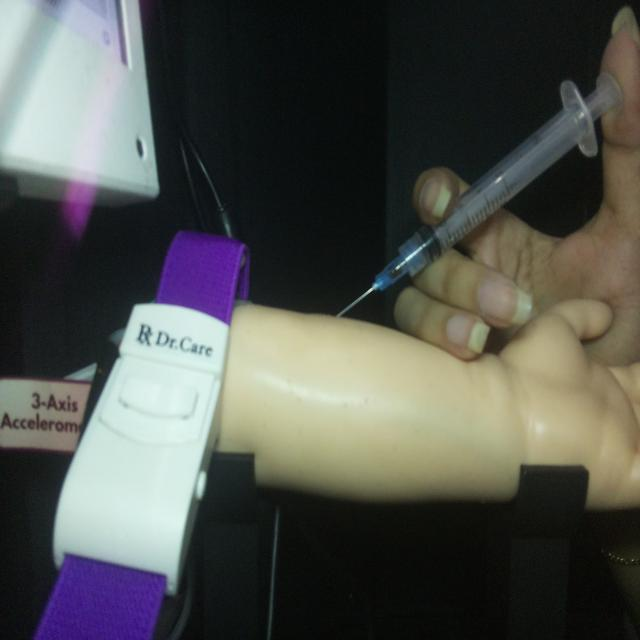30 degrees: (334, 68, 624, 322)
